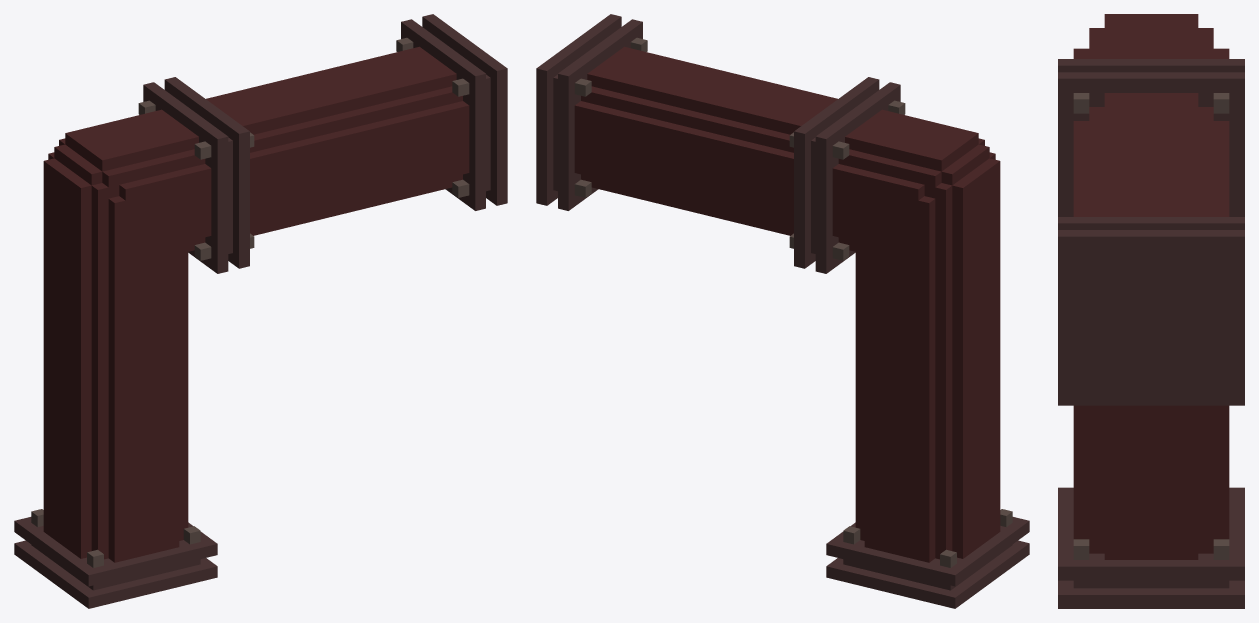
Rendered from pipe bent 40x.obj.
3 views of the same model, side by side, from view 1: azimuth 30°, elevation 25°; view 2: azimuth 150°, elevation 25°; view 3: azimuth 270°, elevation 25° (orthographic). The views are drawn at different scales.
Parts seen in each view (by area): view 1: pipe bent 40x; view 2: pipe bent 40x; view 3: pipe bent 40x.
Part boxes in pixels (bbox=[...]): pipe bent 40x: bbox=[14, 14, 507, 608]; pipe bent 40x: bbox=[536, 14, 1029, 608]; pipe bent 40x: bbox=[1058, 14, 1244, 608].
Bounding box in the file's own units: 39 × 39 × 12.
1 material, 1 textured.
